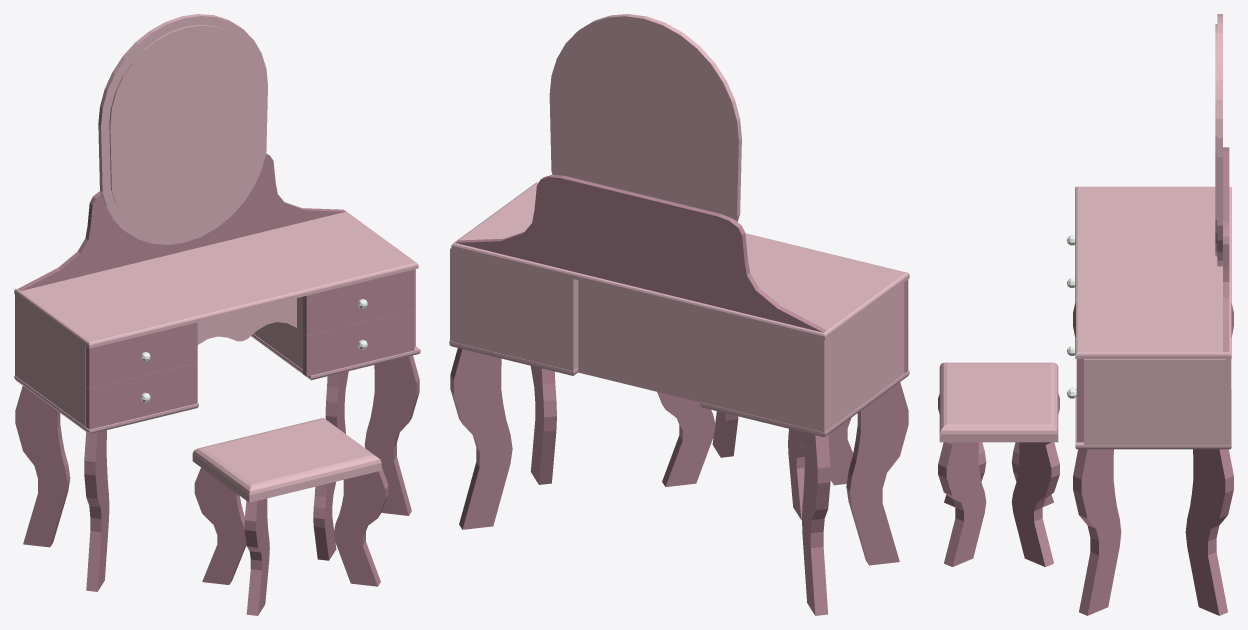
The model's file is penteadeira.fbx.
The picture shows the model from 3 angles, left to right: view 1: azimuth 30°, elevation 25°; view 2: azimuth 150°, elevation 25°; view 3: azimuth 270°, elevation 25°; orthographic projection. The views are drawn at different scales.
Parts seen in each view (by area): view 1: Circle, Cube.014, Cube.017, Cube.008, Cube.016, Cube.009, Cube.018, Cube.019, Cube.005, Cube.013, Cube.002, Cube.011 (+4 smaller); view 2: Circle, Cube.016, Cube.003, Cube, Cube.014, Cube.006, Cube.009, Cube.008, Cube.019, Cube.018, Cube.015; view 3: Cube.014, Cube.017, Cube, Cube.003, Cube.008, Cube.009, Cube.018, Cube.019, Circle, Cube.016, Cube.015.
Boxes of the visible parts, <box> form: Circle: <box>98,14,267,244</box>; Cube.014: <box>14,209,418,348</box>; Cube.017: <box>192,418,381,502</box>; Cube.008: <box>84,355,419,591</box>; Cube.016: <box>18,153,345,290</box>; Cube.009: <box>15,371,348,547</box>; Cube.018: <box>244,467,388,615</box>; Cube.019: <box>194,467,336,584</box>; Cube.005: <box>86,362,197,429</box>; Cube.013: <box>303,309,414,376</box>; Cube.002: <box>86,322,197,388</box>; Cube.011: <box>303,269,414,335</box>; Circle: <box>549,14,741,221</box>; Cube.016: <box>455,174,826,332</box>; Cube.003: <box>450,295,904,432</box>; Cube: <box>450,248,904,386</box>; Cube.014: <box>451,182,909,340</box>; Cube.006: <box>578,280,701,402</box>; Cube.009: <box>450,348,830,615</box>; Cube.008: <box>530,366,908,565</box>; Cube.019: <box>657,392,804,520</box>; Cube.018: <box>712,411,853,485</box>; Cube.015: <box>449,341,909,437</box>; Cube.014: <box>1075,186,1231,358</box>; Cube.017: <box>939,362,1058,442</box>; Cube: <box>1084,359,1231,402</box>; Cube.003: <box>1084,359,1231,444</box>; Cube.008: <box>1073,303,1121,615</box>; Cube.009: <box>1185,303,1233,615</box>; Cube.018: <box>938,394,986,566</box>; Cube.019: <box>1011,394,1059,566</box>; Circle: <box>1215,14,1222,266</box>; Cube.016: <box>1223,147,1229,352</box>; Cube.015: <box>1075,389,1231,449</box>.
Size of the model in its own units: 98.82 by 137 by 72.39.
